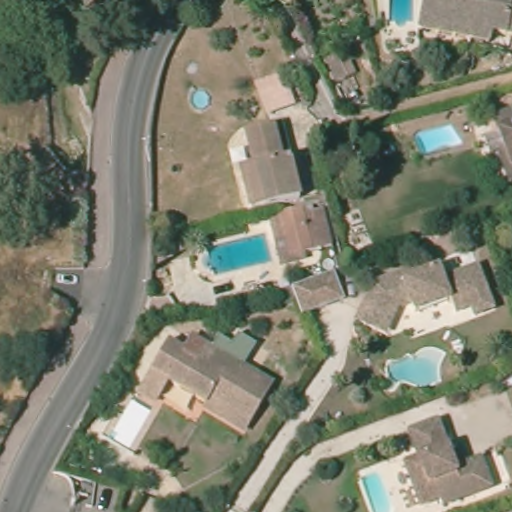pool: (198, 232, 276, 279), (383, 345, 450, 394), (350, 467, 400, 508), (410, 123, 465, 160), (386, 1, 419, 29), (185, 86, 213, 114)
